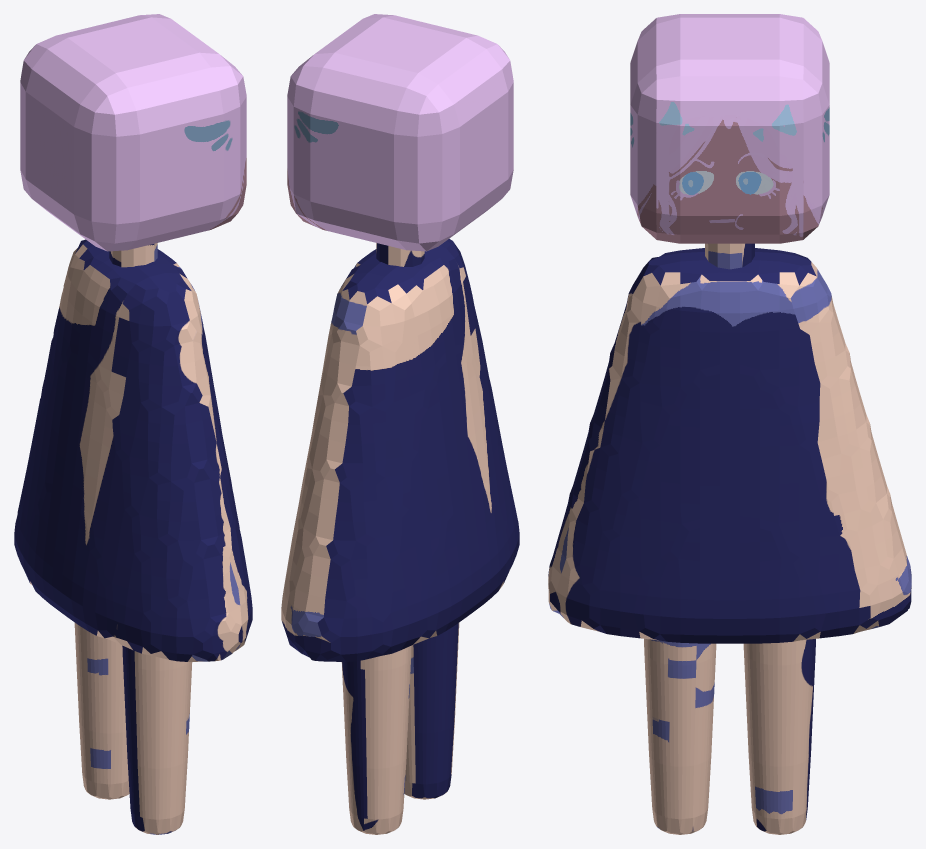
File: tsundere.fbx
3 renders of one model, left to right at view 1: azimuth 30°, elevation 25°; view 2: azimuth 150°, elevation 25°; view 3: azimuth 270°, elevation 25°, orthographic. The views are drawn at different scales.
Visible parts, largest first — view 1: mobChara1.001; view 2: mobChara1.001; view 3: mobChara1.001.
Part boxes in pixels (x1=…): mobChara1.001: x1=14, y1=14, x2=252, y2=834; mobChara1.001: x1=281, y1=14, x2=519, y2=834; mobChara1.001: x1=548, y1=14, x2=911, y2=834.
Bounding box in the file's own units: 100 × 436 × 182.
2 materials, 2 textured.
